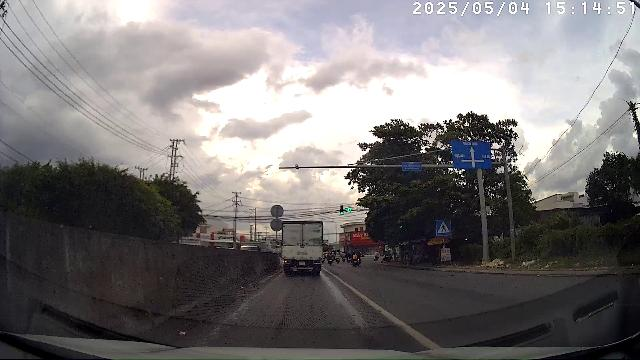423a-duong-nguoi-di-bo-sang-ngang-1: (436, 219, 450, 234)
